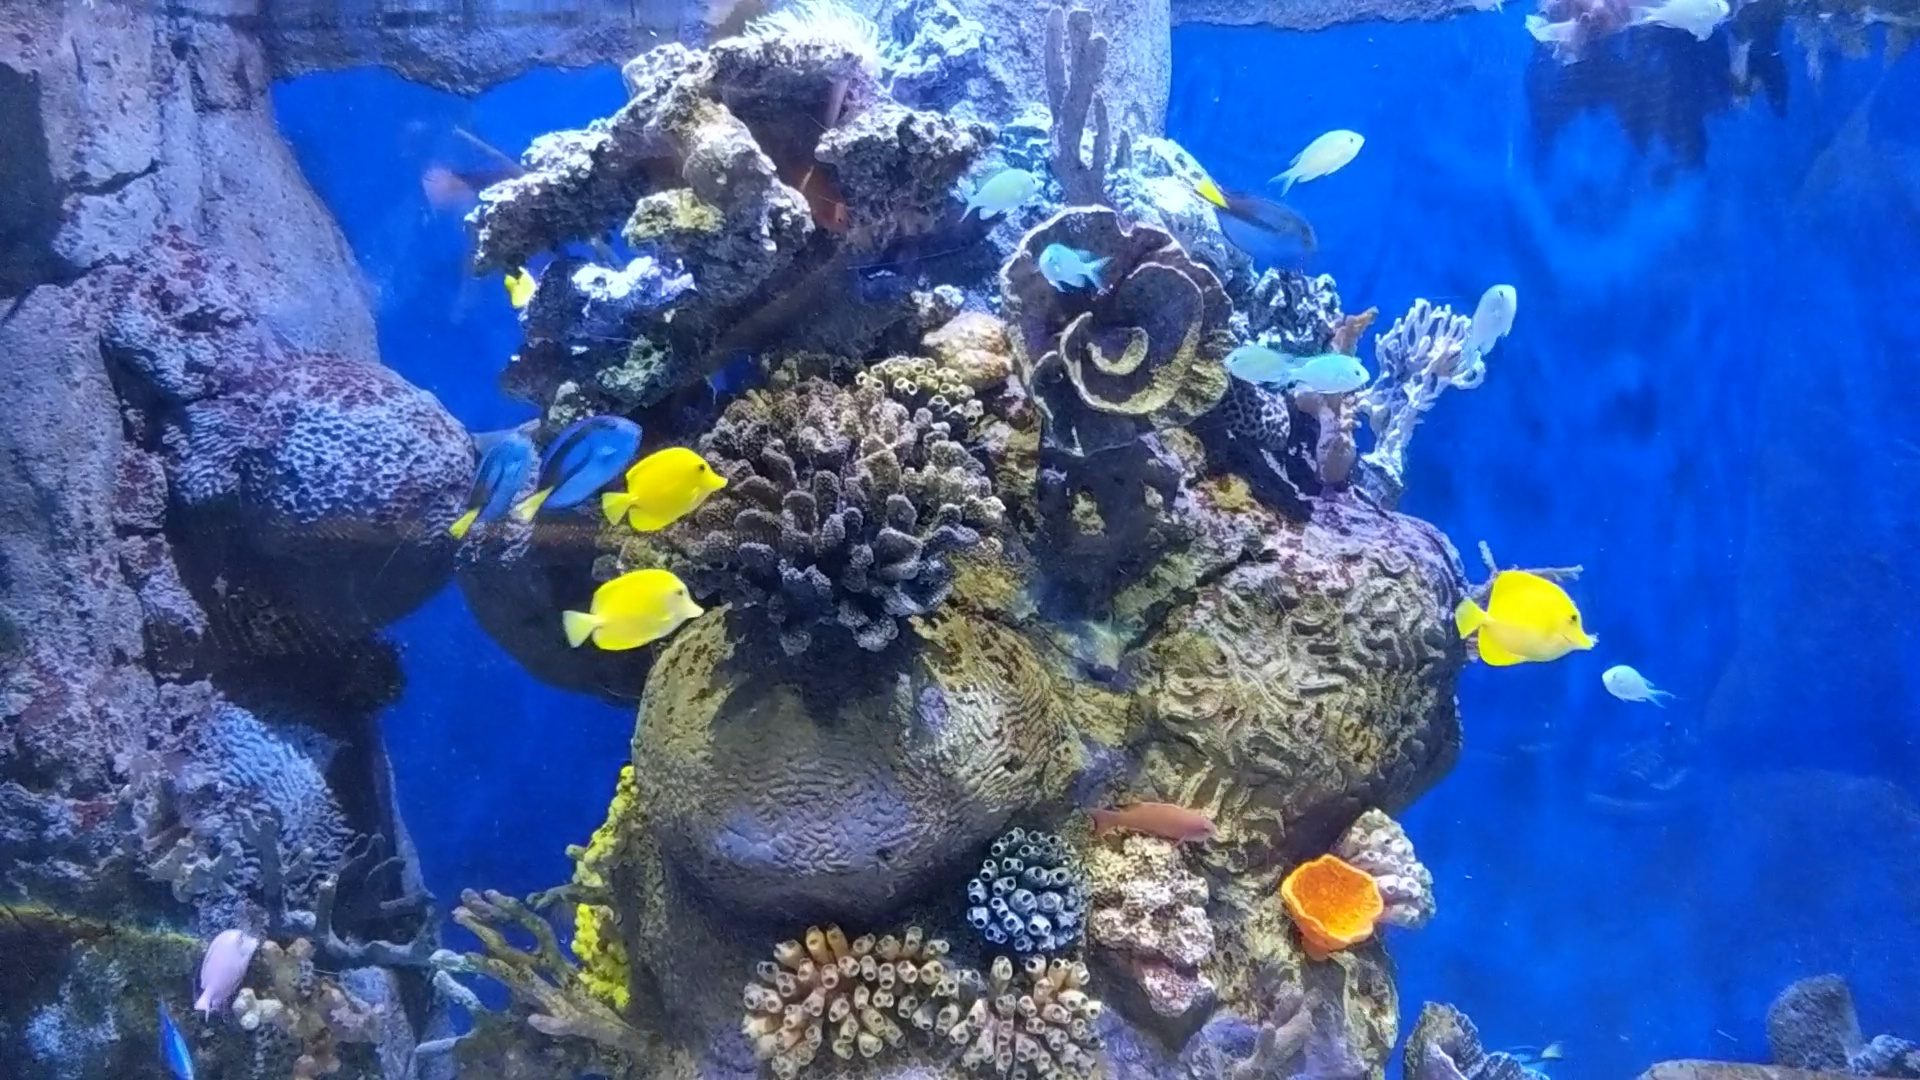blue tang surgeonfish: (508, 411, 651, 526), (436, 421, 546, 546), (1464, 1033, 1581, 1080), (149, 996, 196, 1080)
damselfish: (1267, 120, 1366, 196), (1615, 0, 1741, 47), (963, 161, 1051, 225), (1462, 278, 1524, 364), (1600, 661, 1683, 716), (1031, 240, 1112, 295), (1288, 356, 1377, 398), (1217, 348, 1308, 388)
saddle butterfly fish: (1444, 553, 1598, 671), (559, 564, 709, 655), (1183, 170, 1329, 262), (597, 442, 727, 542), (491, 261, 559, 326)
